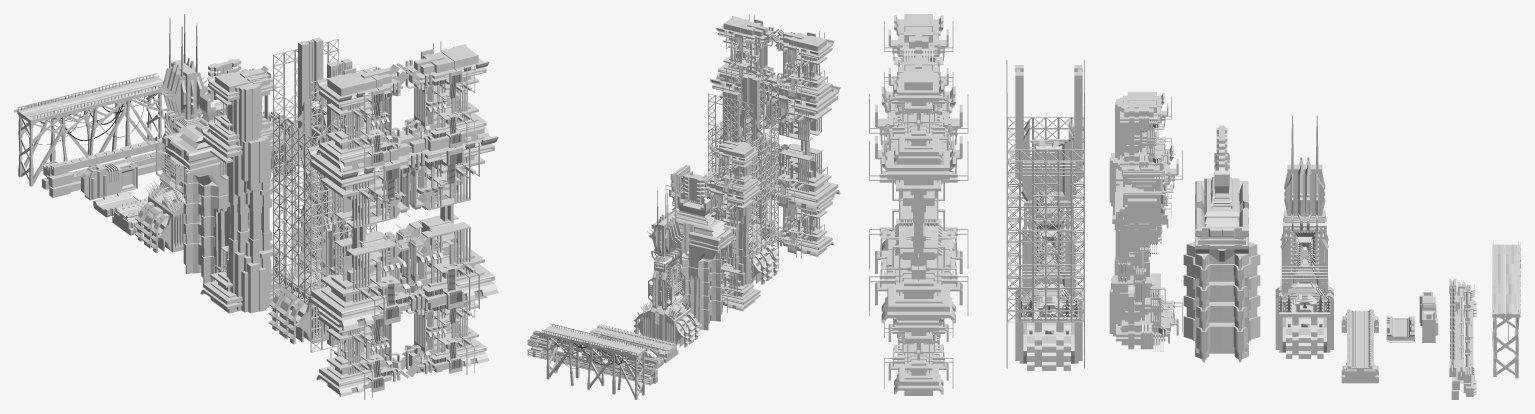
The model's file is Kyu & Zo - Old Dystopic Buildings Set.fbx.
3 views of the same model, side by side, from view 1: azimuth 30°, elevation 25°; view 2: azimuth 150°, elevation 25°; view 3: azimuth 270°, elevation 25° (orthographic). The views are drawn at different scales.
Parts seen in each view (by area): view 1: Cube.037, Cube.033, Cube.015, Cube.025, Cube.016, Cube.003, Cube.027, Cube.021, Cube.005, Cube.023; view 2: Cube.037, Cube.033, Cube.015, Cube.025, Cube.003, Cube.016, Cube.027, Cube.005; view 3: Cube.037, Cube.033, Cube.015, Cube.025, Cube.003, Cube.016, Cube.027, Cube.005, Cube.021, Cube.023.
Boxes of the visible parts, x1,y1,x2,y2 form: Cube.037: (307, 41, 498, 399); Cube.033: (269, 37, 376, 352); Cube.015: (200, 66, 312, 313); Cube.025: (162, 58, 241, 283); Cube.016: (14, 73, 163, 186); Cube.003: (134, 14, 208, 252); Cube.027: (41, 137, 162, 197); Cube.021: (81, 161, 137, 200); Cube.005: (112, 198, 147, 235); Cube.023: (93, 191, 142, 217); Cube.037: (710, 14, 840, 258); Cube.033: (708, 74, 779, 288); Cube.015: (666, 140, 760, 312); Cube.025: (651, 174, 736, 330); Cube.003: (633, 185, 699, 347); Cube.016: (539, 323, 645, 399); Cube.027: (527, 330, 658, 385); Cube.005: (590, 324, 678, 362); Cube.037: (869, 14, 968, 395); Cube.033: (1006, 60, 1084, 370); Cube.015: (1109, 92, 1182, 351); Cube.025: (1183, 125, 1260, 362); Cube.003: (1275, 115, 1333, 358); Cube.016: (1492, 240, 1520, 378); Cube.027: (1449, 278, 1476, 399); Cube.005: (1341, 308, 1378, 383); Cube.021: (1419, 292, 1438, 342); Cube.023: (1386, 316, 1414, 342).
Size of what is drawn, in the model's own units: 750 by 1201 by 2247.
